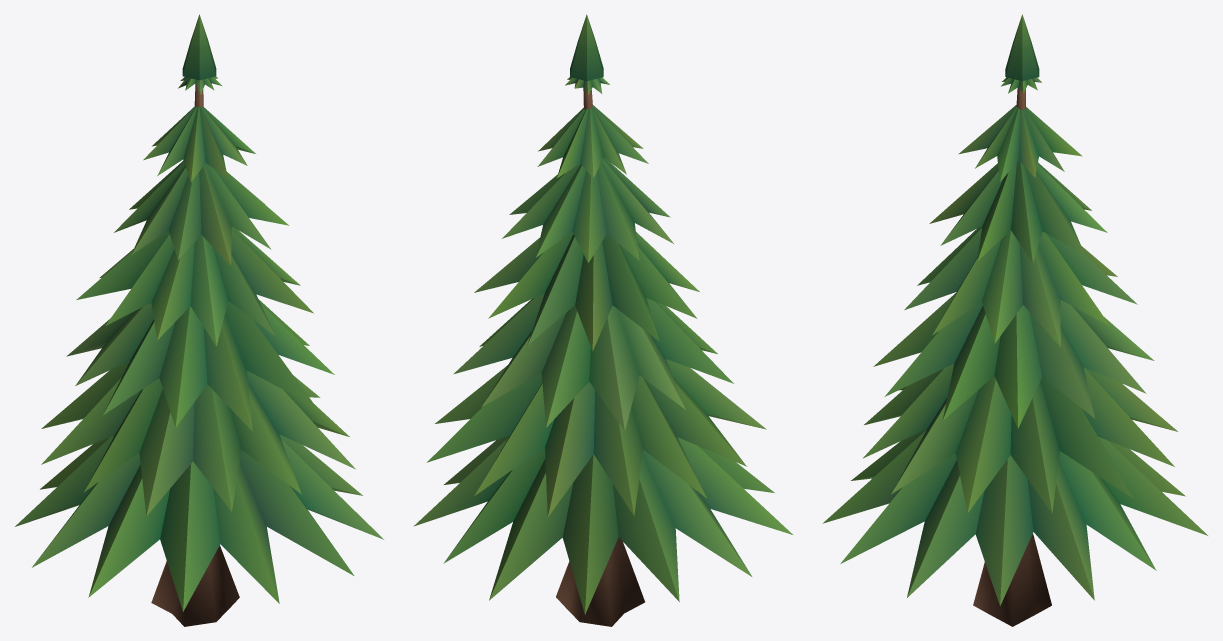
The model's file is f_pine3.glb.
The picture shows the model from 3 angles, left to right: view 1: azimuth 30°, elevation 25°; view 2: azimuth 150°, elevation 25°; view 3: azimuth 270°, elevation 25°; orthographic projection.
Visible parts, largest first — view 1: pine3; view 2: pine3; view 3: pine3.
Boxes of the visible parts, bbox=[...] form: pine3: bbox=[15, 14, 383, 626]; pine3: bbox=[413, 14, 792, 626]; pine3: bbox=[822, 14, 1207, 626].
Size of the model in its own units: 5.73 by 10.1 by 5.95.
